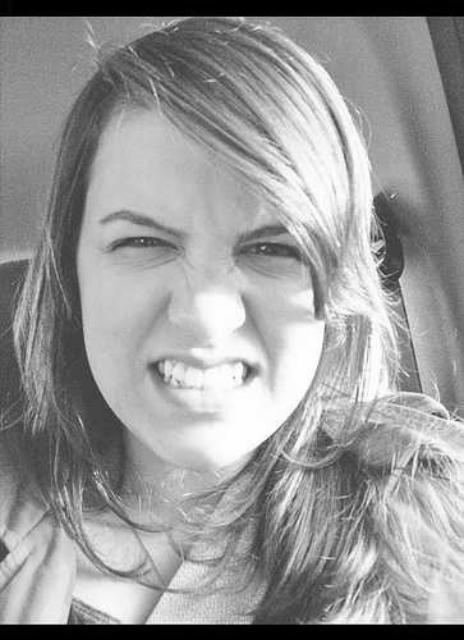SafeDriving: (96, 214, 191, 270), (230, 223, 310, 274)
Seatbelt: (136, 314, 374, 622)
